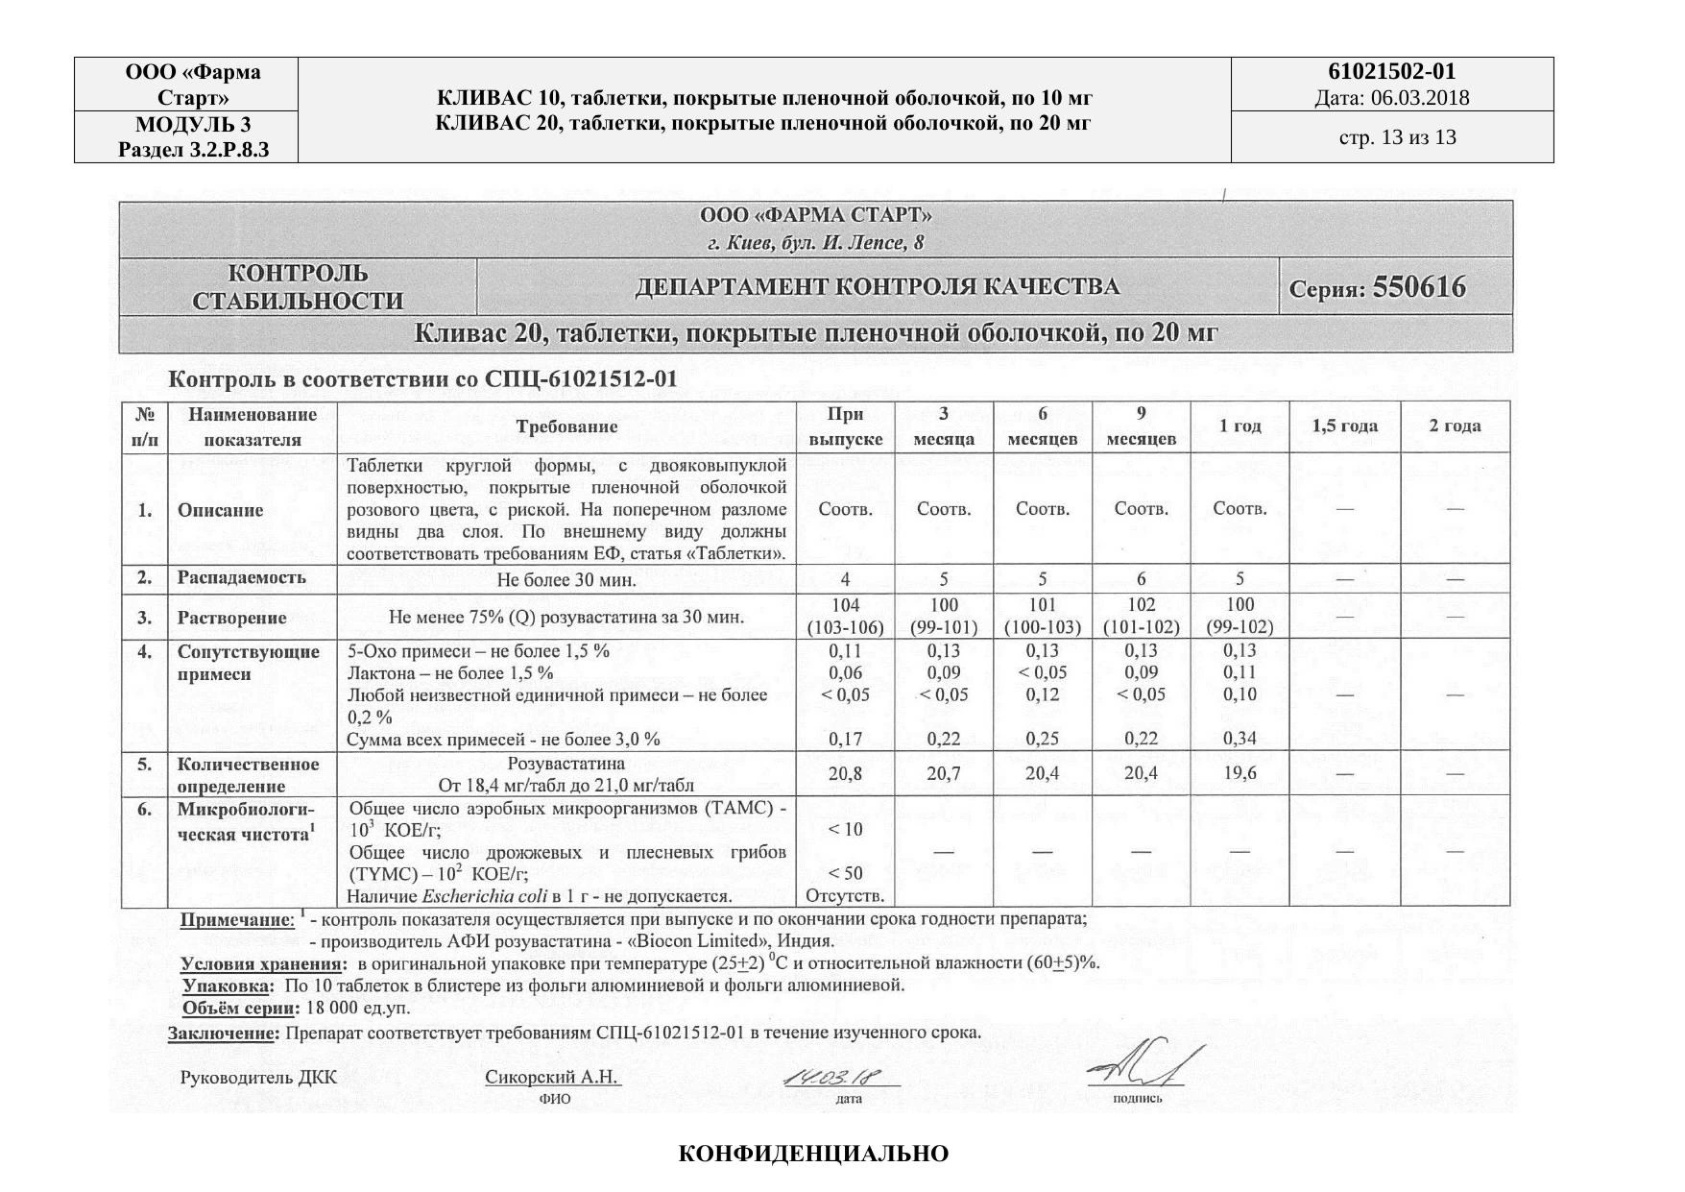full_lined: (120, 399, 1512, 909)
merged_cells: (117, 199, 1515, 355), (74, 55, 1555, 164)
